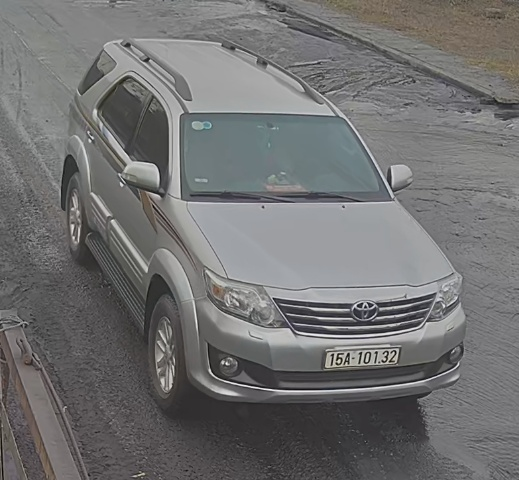vehicle plate: (321, 345, 409, 369)
